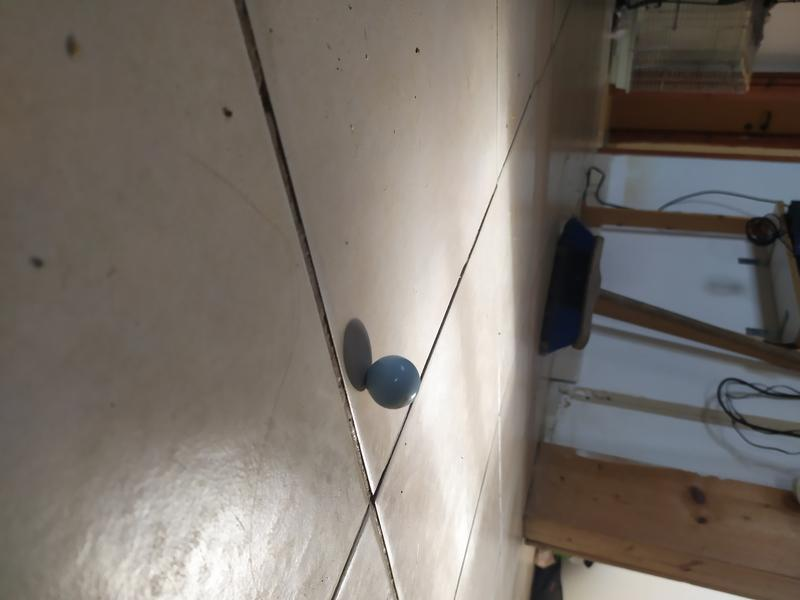Warning: (362, 351, 423, 411)
